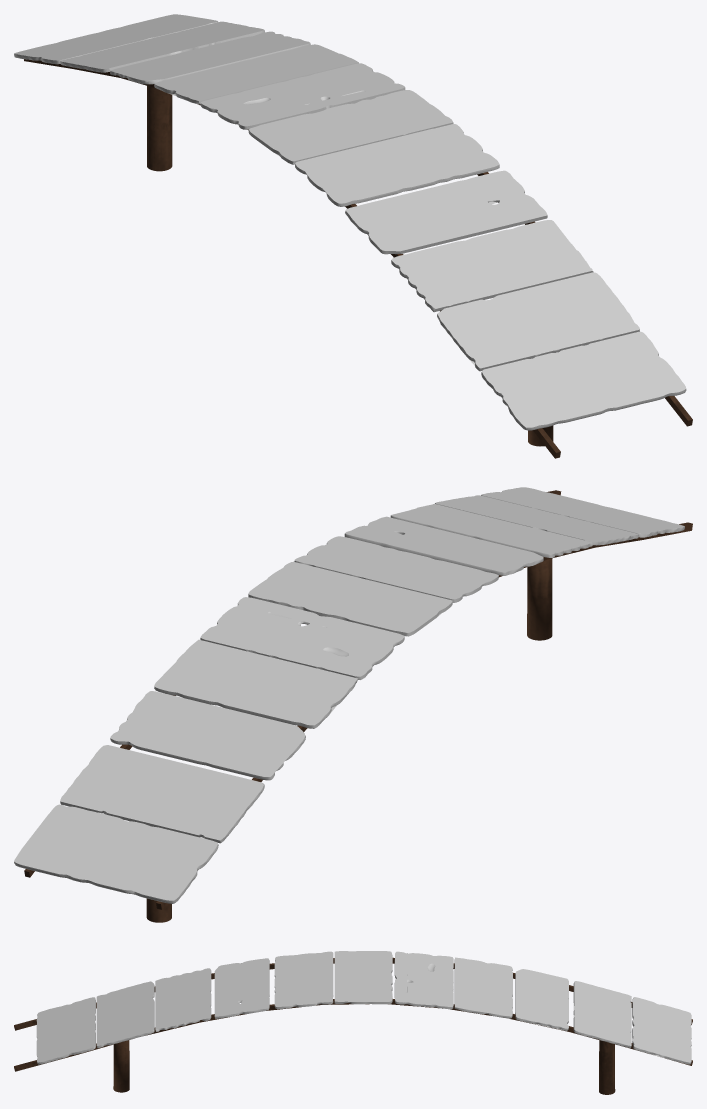
File: Bridge New - 003.fbx
3 renders of one model, top to bottom at view 1: azimuth 30°, elevation 25°; view 2: azimuth 150°, elevation 25°; view 3: azimuth 270°, elevation 25°, orthographic. The views are drawn at different scales.
Parts seen in each view (by area): view 1: Bridge Planks, Bridge Poles, Bridge Support; view 2: Bridge Planks, Bridge Poles, Bridge Support; view 3: Bridge Planks, Bridge Poles, Bridge Support.
Boxes of the visible parts, x1,y1,x2,y2 form: Bridge Planks: (14, 14, 686, 430); Bridge Poles: (147, 86, 553, 446); Bridge Support: (24, 59, 692, 458); Bridge Planks: (14, 487, 684, 903); Bridge Poles: (146, 558, 552, 922); Bridge Support: (24, 490, 692, 909); Bridge Planks: (36, 951, 691, 1064); Bridge Poles: (113, 1040, 615, 1094); Bridge Support: (14, 957, 692, 1071).
Bounding box in the file's own units: 299 × 314 × 1678.
